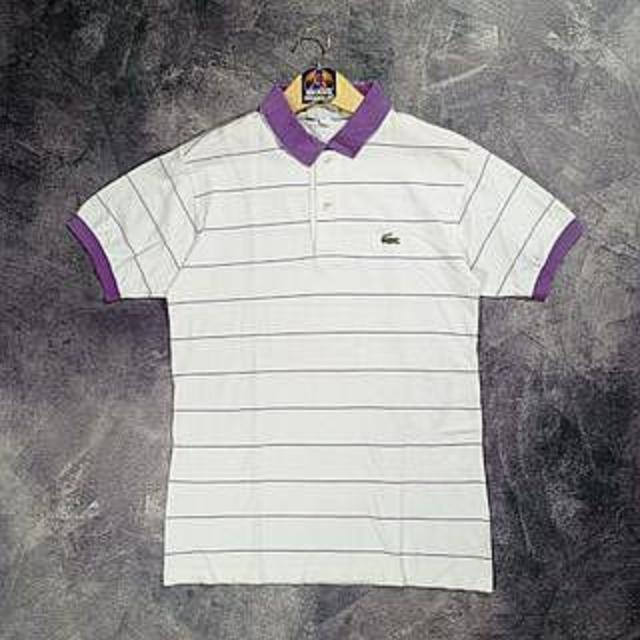T_SHIRT: (50, 63, 597, 605)
